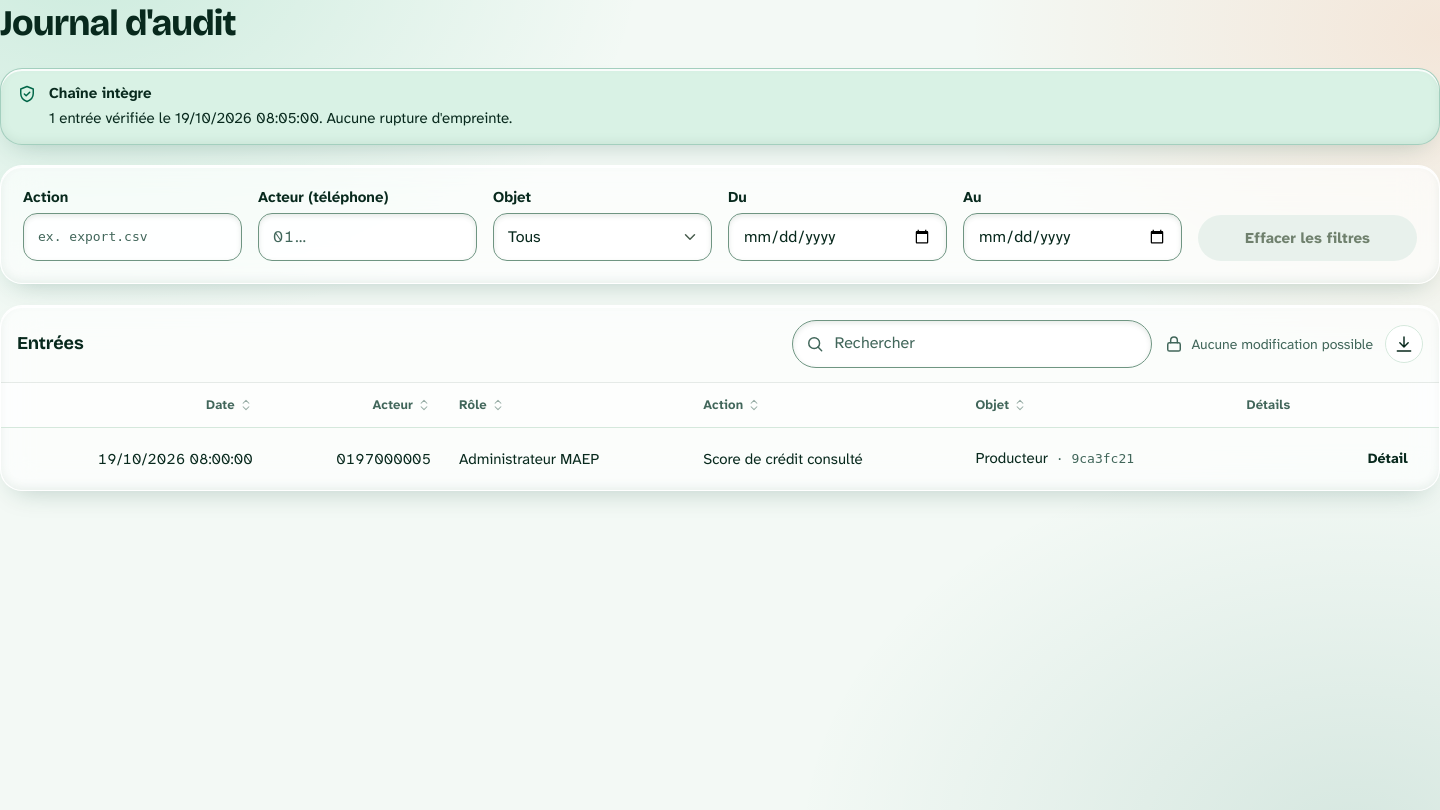
Test: Journal d’audit › affiche l’action en français et garde le code brut en infobulle et dans le détail
Check: the text "credit.score_view" is not shown
Check: the text "· 9ca3fc21" is shown, box [1048,451,1134,466]
Click the button "Détail" at (1388, 459), box [1351,440,1425,478]
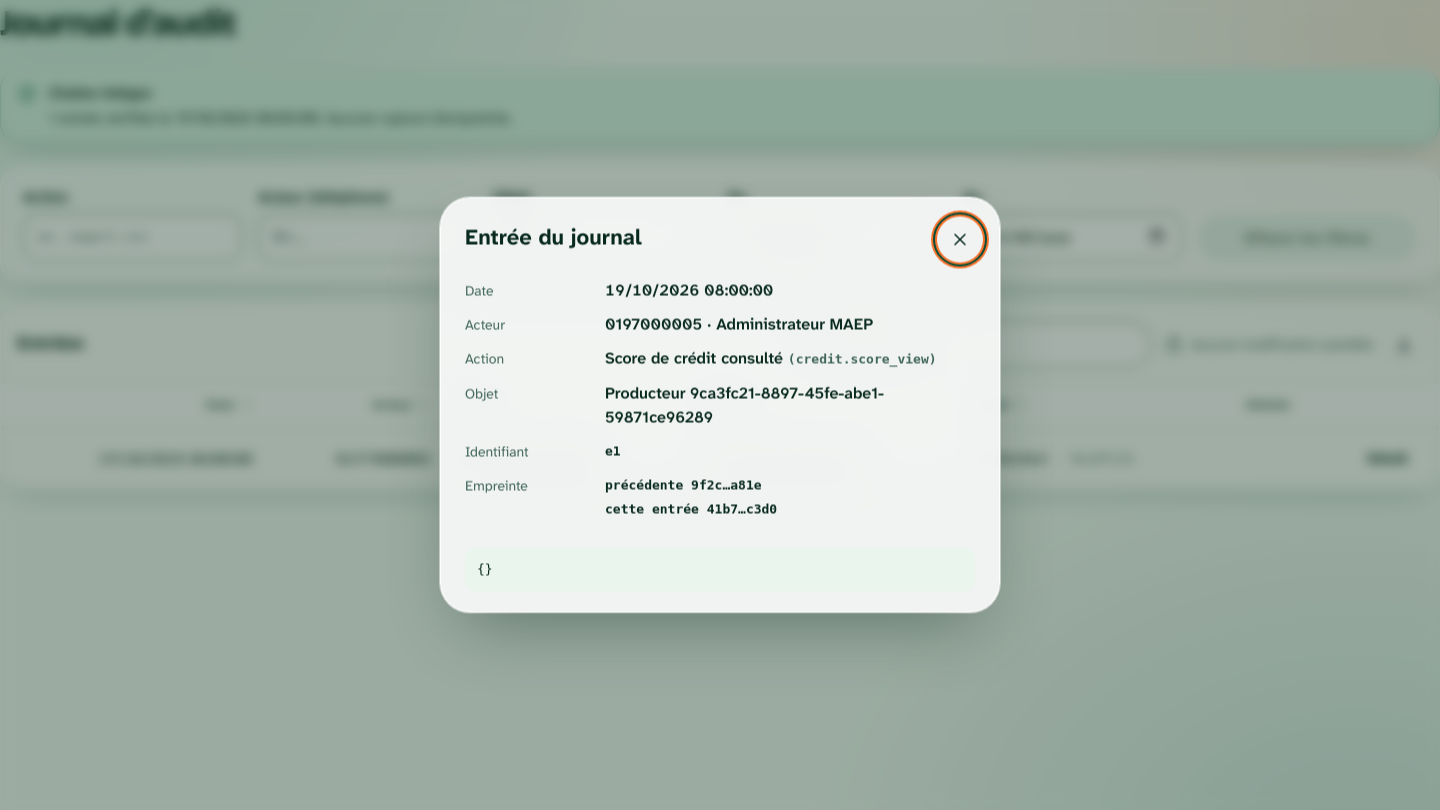
Check: the text "(credit.score_view)" is shown, box [788,352,936,366]
